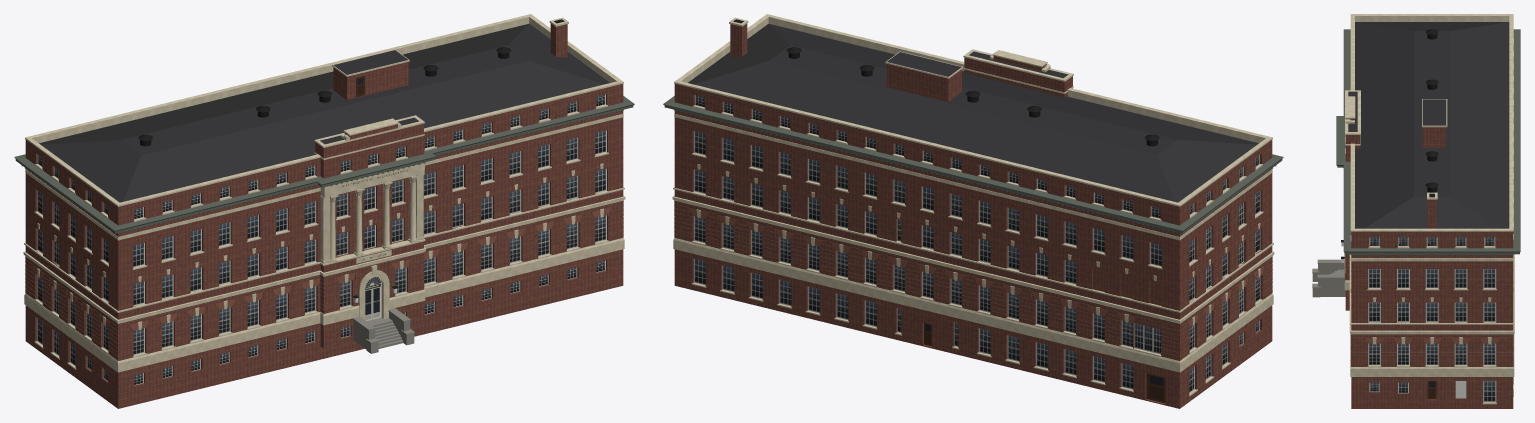
The model's file is ricketts_building.glb.
3 renders of one model, left to right at view 1: azimuth 30°, elevation 25°; view 2: azimuth 150°, elevation 25°; view 3: azimuth 270°, elevation 25°, orthographic. The views are drawn at different scales.
Parts seen in each view (by area): view 1: Ricketts_Walls, Ricketts_Roof, Ricketts_Stone_Trim, Ricketts_Windows, Ricketts_Cornice, Ricketts_Entrance, Ricketts_Columns; view 2: Ricketts_Walls, Ricketts_Roof, Ricketts_Stone_Trim, Ricketts_Windows, Ricketts_Cornice; view 3: Ricketts_Roof, Ricketts_Walls, Ricketts_Stone_Trim, Ricketts_Windows, Ricketts_Cornice, Ricketts_Entrance.
Boxes of the visible parts, x1,y1,x2,y2 form: Ricketts_Walls: [25, 23, 623, 408]; Ricketts_Roof: [39, 23, 609, 202]; Ricketts_Stone_Trim: [23, 14, 625, 372]; Ricketts_Windows: [37, 94, 606, 385]; Ricketts_Cornice: [14, 96, 634, 233]; Ricketts_Entrance: [352, 19, 564, 353]; Ricketts_Columns: [320, 173, 424, 263]; Ricketts_Walls: [674, 23, 1272, 408]; Ricketts_Roof: [688, 23, 1258, 202]; Ricketts_Stone_Trim: [672, 14, 1274, 396]; Ricketts_Windows: [694, 95, 1260, 403]; Ricketts_Cornice: [663, 96, 1283, 233]; Ricketts_Roof: [1355, 22, 1509, 228]; Ricketts_Walls: [1345, 118, 1513, 408]; Ricketts_Stone_Trim: [1344, 14, 1514, 404]; Ricketts_Windows: [1368, 237, 1496, 402]; Ricketts_Cornice: [1336, 29, 1520, 255]; Ricketts_Entrance: [1312, 193, 1434, 297].
Size of the model in its own units: 57.4 by 25.15 by 22.75.
13 materials, 7 textured.
